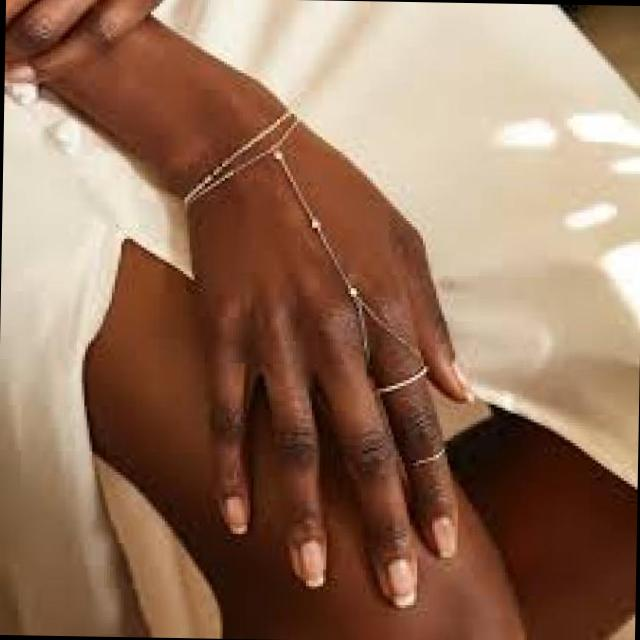Nail: (383, 558, 415, 607), (299, 540, 325, 586), (427, 515, 456, 556), (221, 495, 246, 533), (455, 369, 474, 402)
